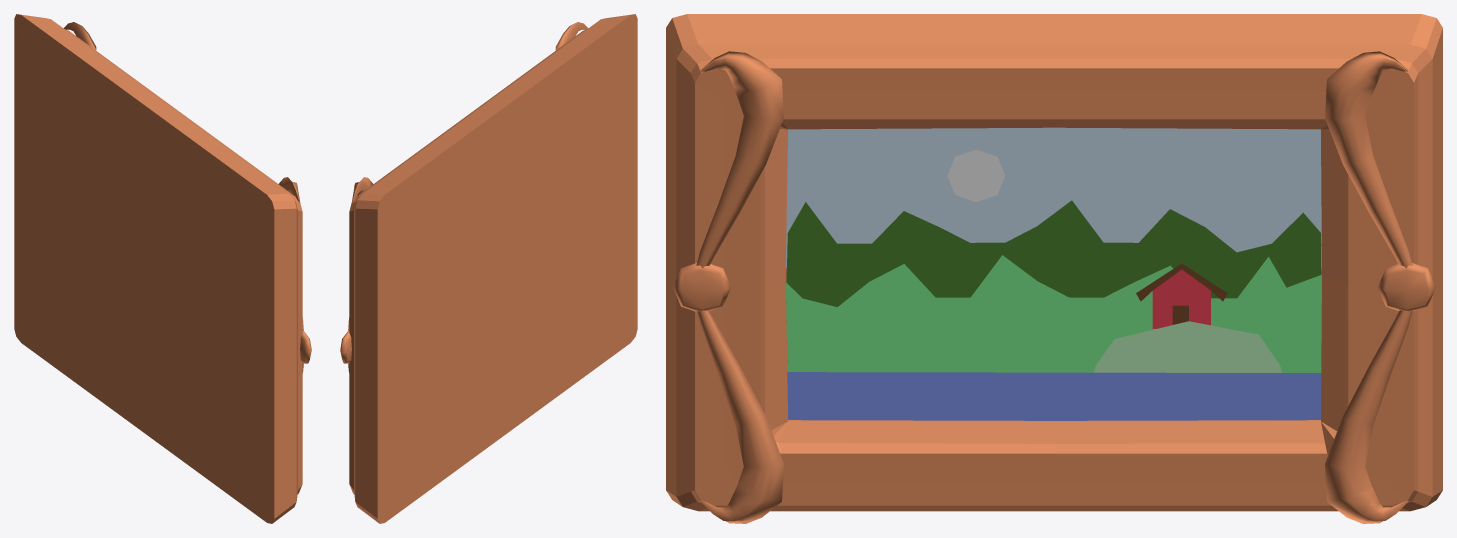
Rendered from painting.fbx.
3 renders of one model, left to right at view 1: azimuth 30°, elevation 25°; view 2: azimuth 150°, elevation 25°; view 3: azimuth 270°, elevation 25°, orthographic. The views are drawn at different scales.
Visible parts, largest first — view 1: Cube.003; view 2: Cube.003; view 3: Cube.003.
Part boxes in pixels (x1,y1,x2,y2): Cube.003: (14, 14, 311, 523); Cube.003: (340, 14, 637, 523); Cube.003: (666, 14, 1442, 523).
Bounding box in the file's own units: 6.37 × 39.43 × 56.66.
